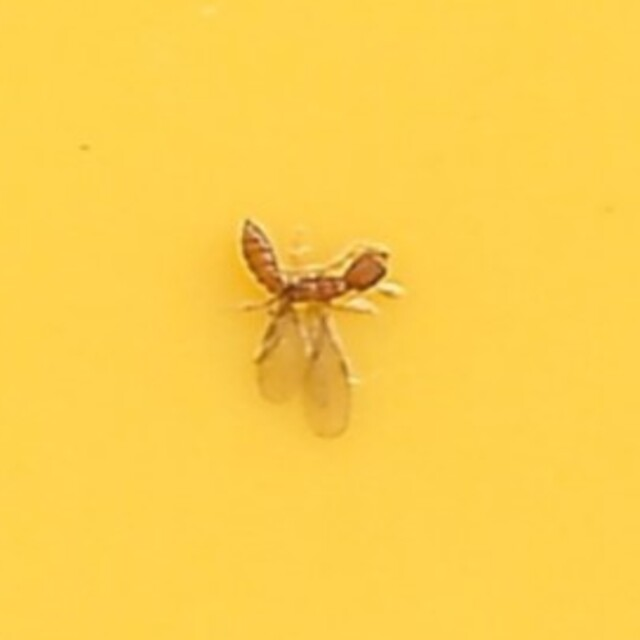Hymenoptera: (235, 215, 405, 425)
